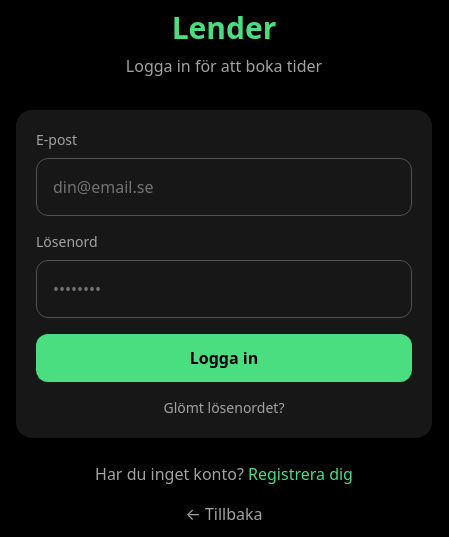
Test: LoginPage › should show loading state while submitting
The width and height of the screenshot is (449, 537).
Type "test@example.com" into the field labelled "E-post". click: coordinates (224, 187)
box: [36,158,412,216]
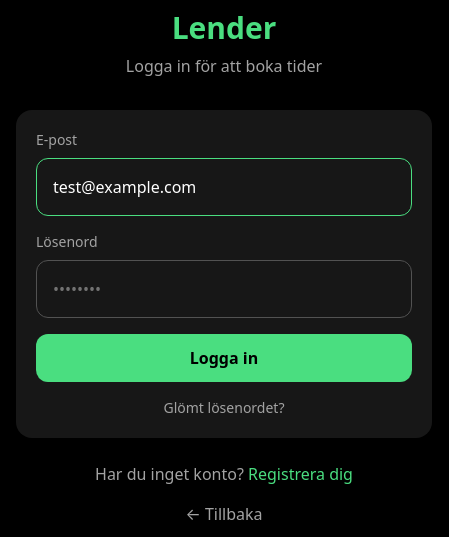
Type "password123" into the password field labelled "Lösenord". click: coordinates (224, 289)
box: [36,260,412,318]
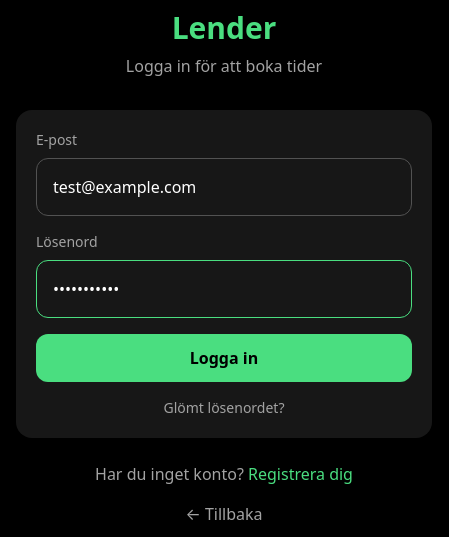
Click the button "Logga in". click: coordinates (224, 358)
box: [36,334,412,382]
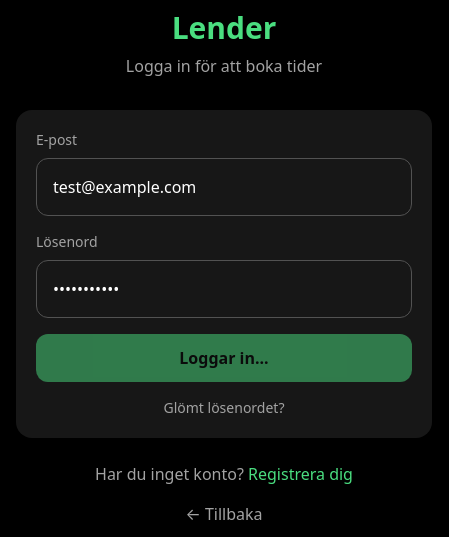
Expected: the button "Loggar in..." is shown, [36,334,412,382]
